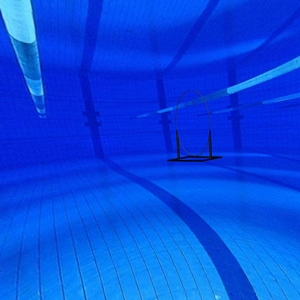circle: (166, 87, 223, 167)
